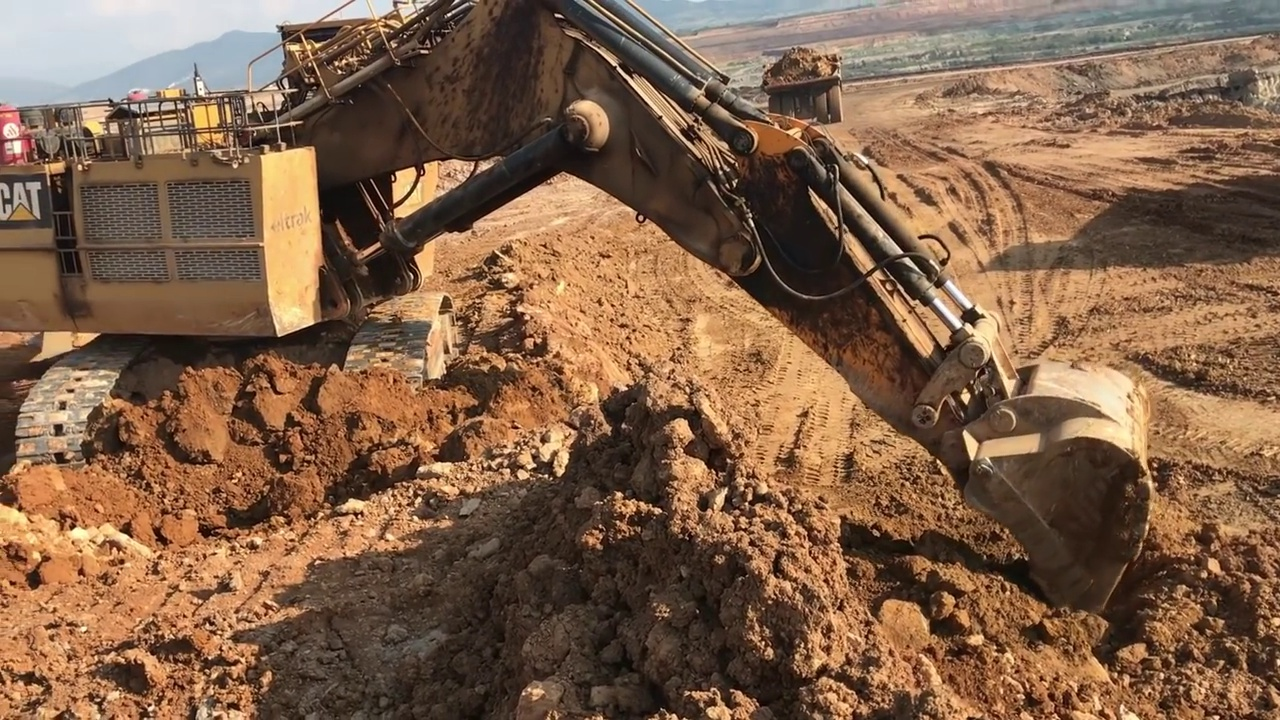excavator: (5, 4, 1153, 659)
